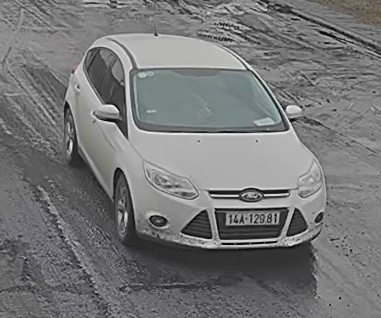vehicle plate: (221, 210, 281, 227)
